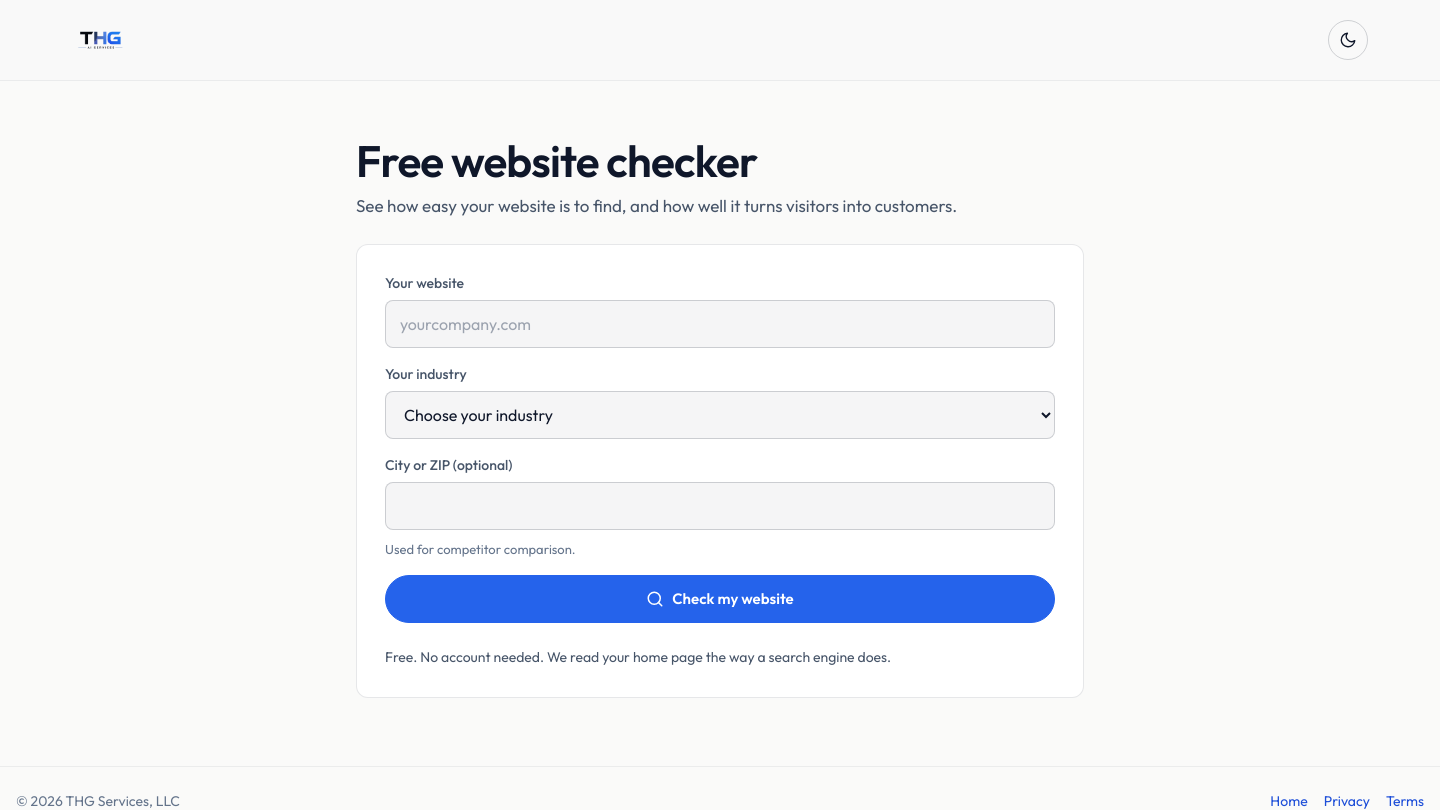
Test: WebsiteChecker page › failures › renders the message for blocked
The width and height of the screenshot is (1440, 810).
Type "example.com" into the field labelled "Your website" at (720, 324), box x1=385 y1=300 x2=1055 y2=348
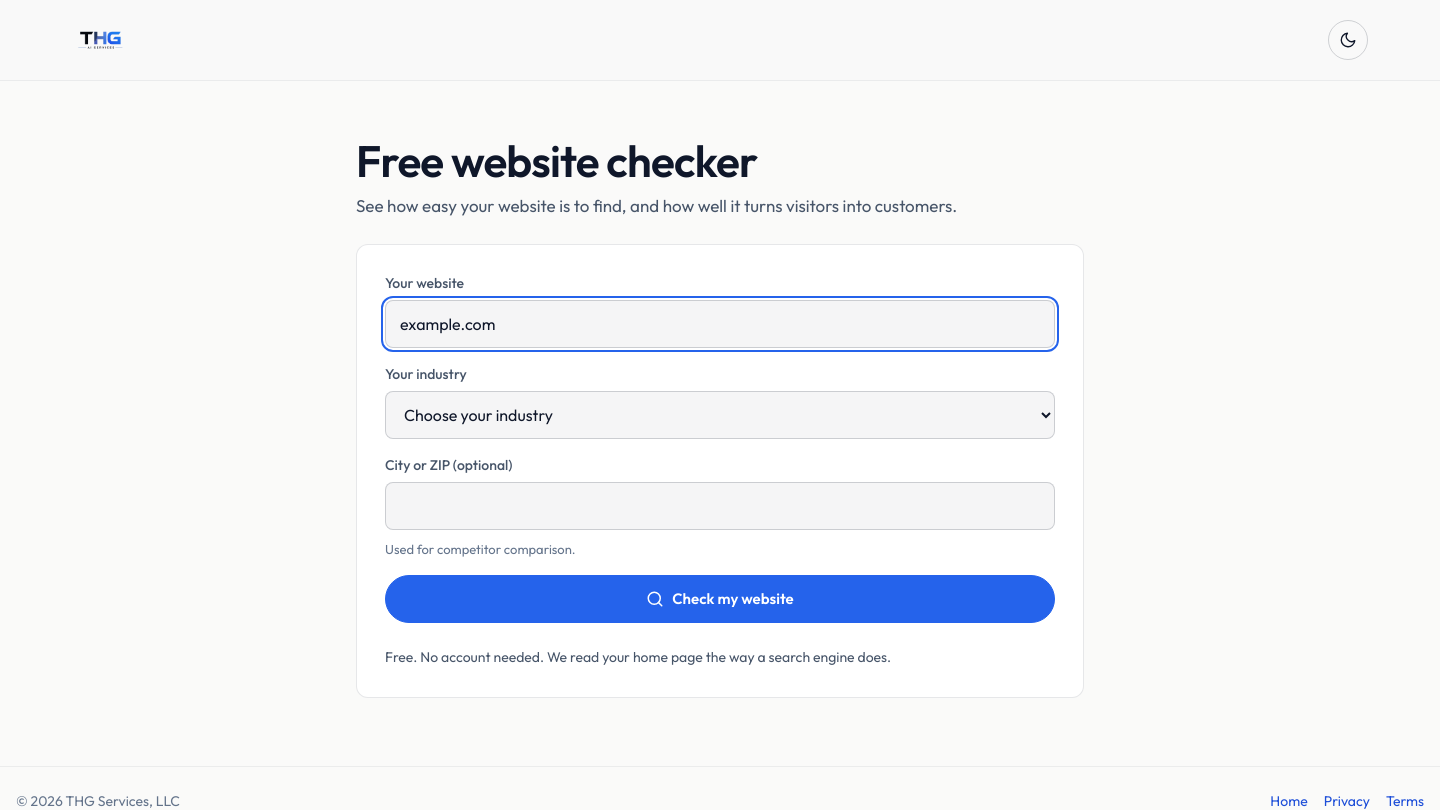
Select "Home services (flooring, plumbing, HVAC, roofing, landscaping, cleaning)" in the dropdown labelled "Your industry" at (720, 415), box x1=385 y1=391 x2=1055 y2=439
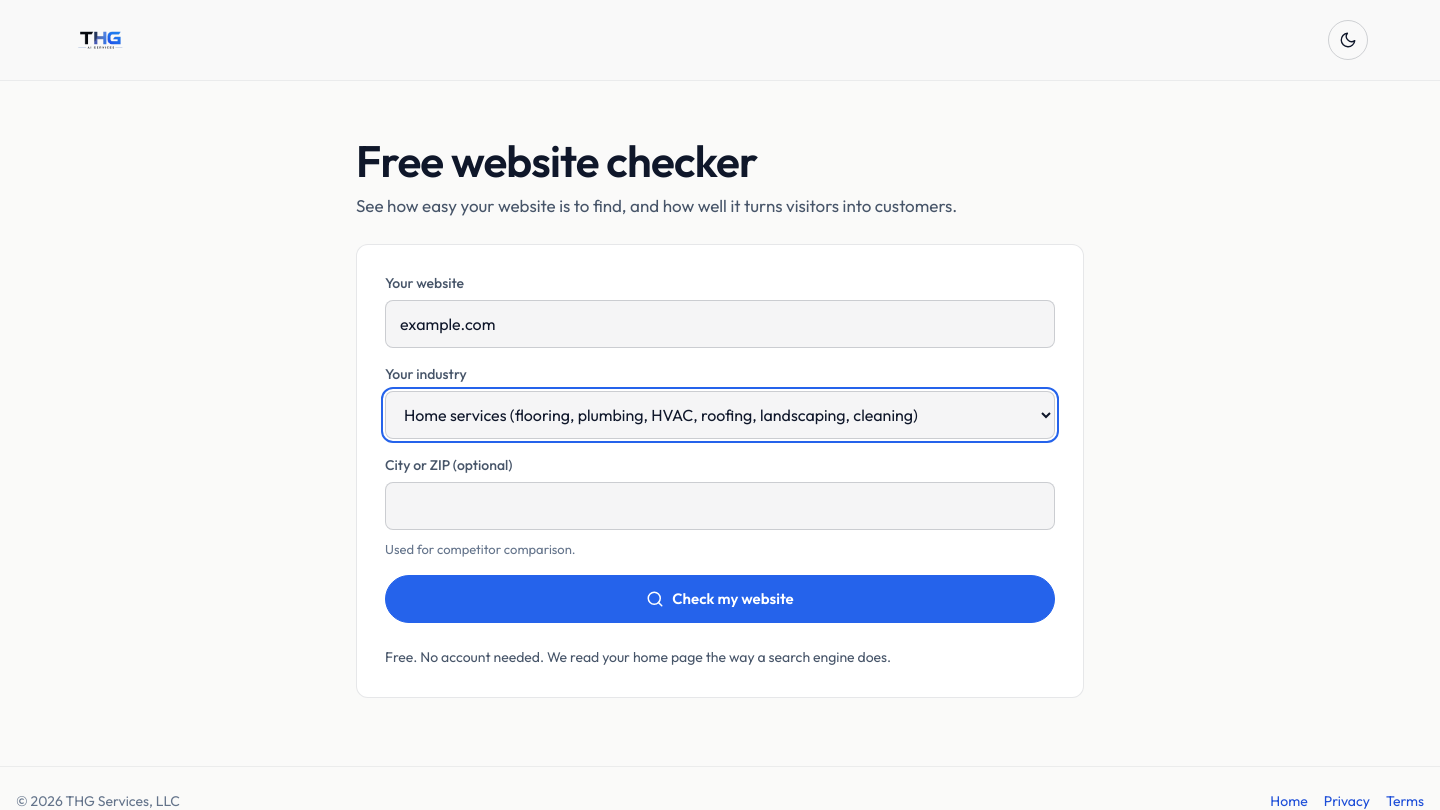
Click the button "Check my website" at (720, 599), box x1=385 y1=575 x2=1055 y2=623
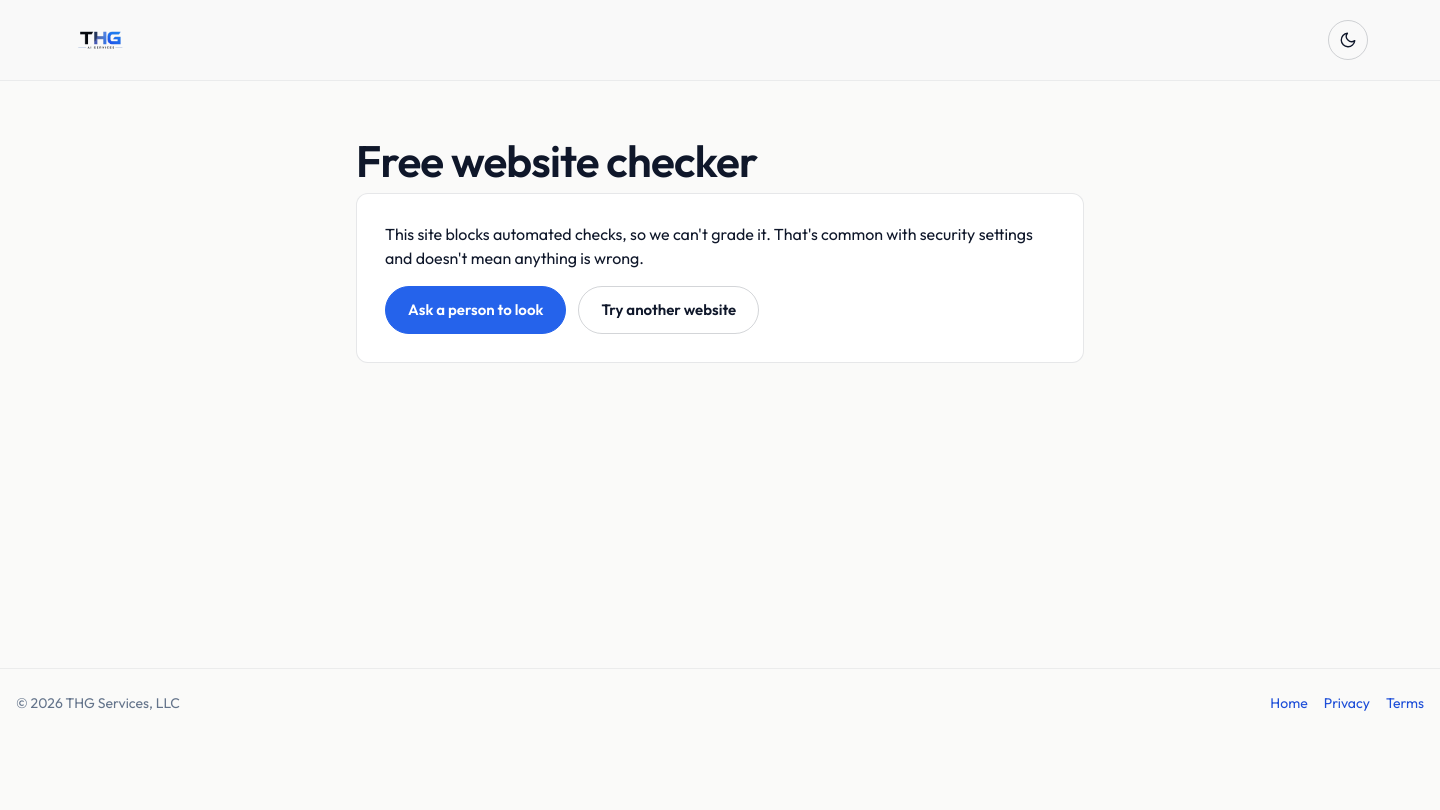
Expected: the text "This site blocks automated checks, so we can't grade it. That's common with security settings and doesn't mean anything " is shown, x1=385 y1=224 x2=1033 y2=268
